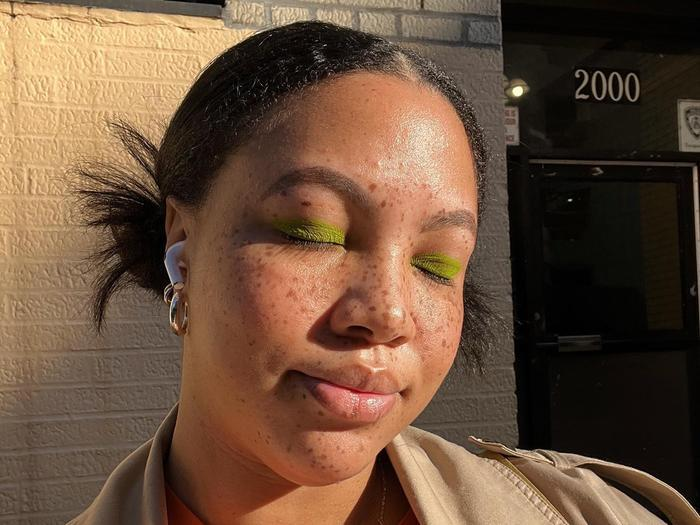Oily-Skin: (369, 85, 477, 201)
